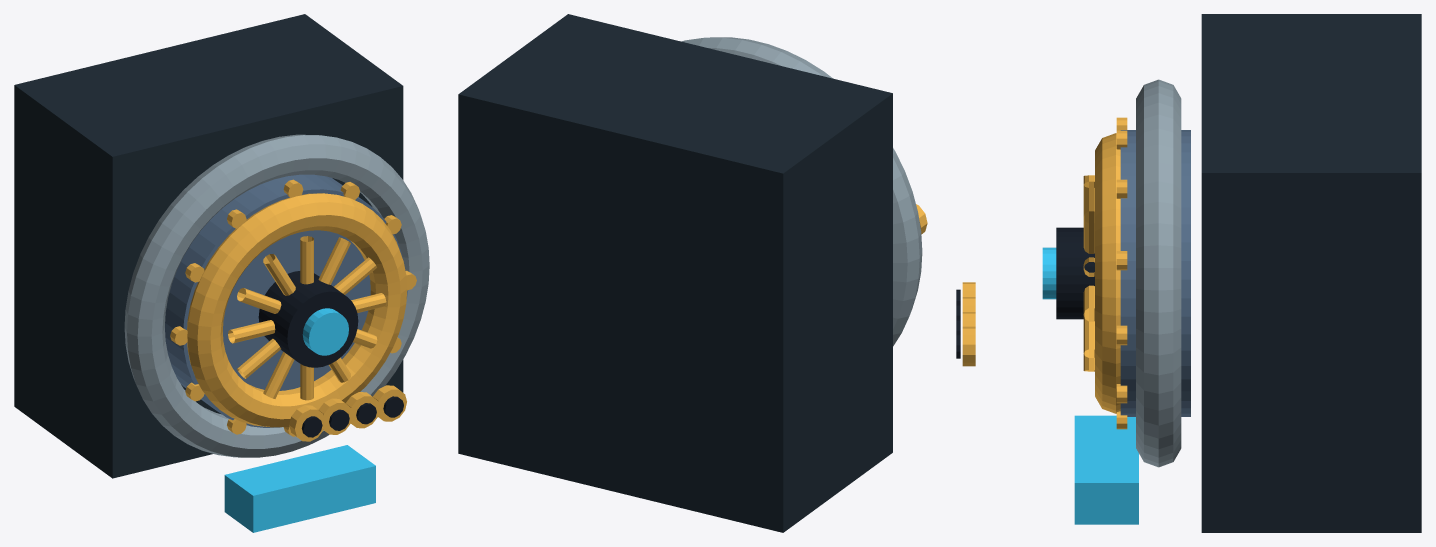
Rendered from 20_L84_ReactionWheelZ.fbx.
3 views of the same model, side by side, from view 1: azimuth 30°, elevation 25°; view 2: azimuth 150°, elevation 25°; view 3: azimuth 270°, elevation 25° (orthographic). The views are drawn at different scales.
Parts seen in each view (by area): view 1: L84_ReactionWheelZ, L84_ReactionWheelZ_Part_0003, L84_ReactionWheelZ_Part_0002, L84_ReactionWheelZ_Part_0004, L84_ReactionWheelZ_Part_0005, L84_ReactionWheelZ_Part_0008, L84_ReactionWheelZ_Part_0014, L84_ReactionWheelZ_Part_0010, L84_ReactionWheelZ_Part_0012; view 2: L84_ReactionWheelZ; view 3: L84_ReactionWheelZ, L84_ReactionWheelZ_Part_0003, L84_ReactionWheelZ_Part_0002, L84_ReactionWheelZ_Part_0004, L84_ReactionWheelZ_Part_0005, L84_ReactionWheelZ_Part_0014.
Part boxes in pixels (x1,y1,x2,y2): L84_ReactionWheelZ: (14,14,429,532); L84_ReactionWheelZ_Part_0003: (187,193,407,427); L84_ReactionWheelZ_Part_0002: (165,174,402,427); L84_ReactionWheelZ_Part_0004: (258,271,358,367); L84_ReactionWheelZ_Part_0005: (302,308,348,355); L84_ReactionWheelZ_Part_0008: (289,405,325,441); L84_ReactionWheelZ_Part_0014: (373,385,406,421); L84_ReactionWheelZ_Part_0010: (318,398,352,434); L84_ReactionWheelZ_Part_0012: (345,392,379,428); L84_ReactionWheelZ: (458,14,922,532); L84_ReactionWheelZ: (1074,14,1421,532); L84_ReactionWheelZ_Part_0003: (1083,133,1120,413); L84_ReactionWheelZ_Part_0002: (1120,130,1190,416); L84_ReactionWheelZ_Part_0004: (1056,227,1094,319); L84_ReactionWheelZ_Part_0005: (1042,247,1056,299); L84_ReactionWheelZ_Part_0014: (962,326,975,366).
Bounding box in the file's own units: 127 × 144 × 152.
